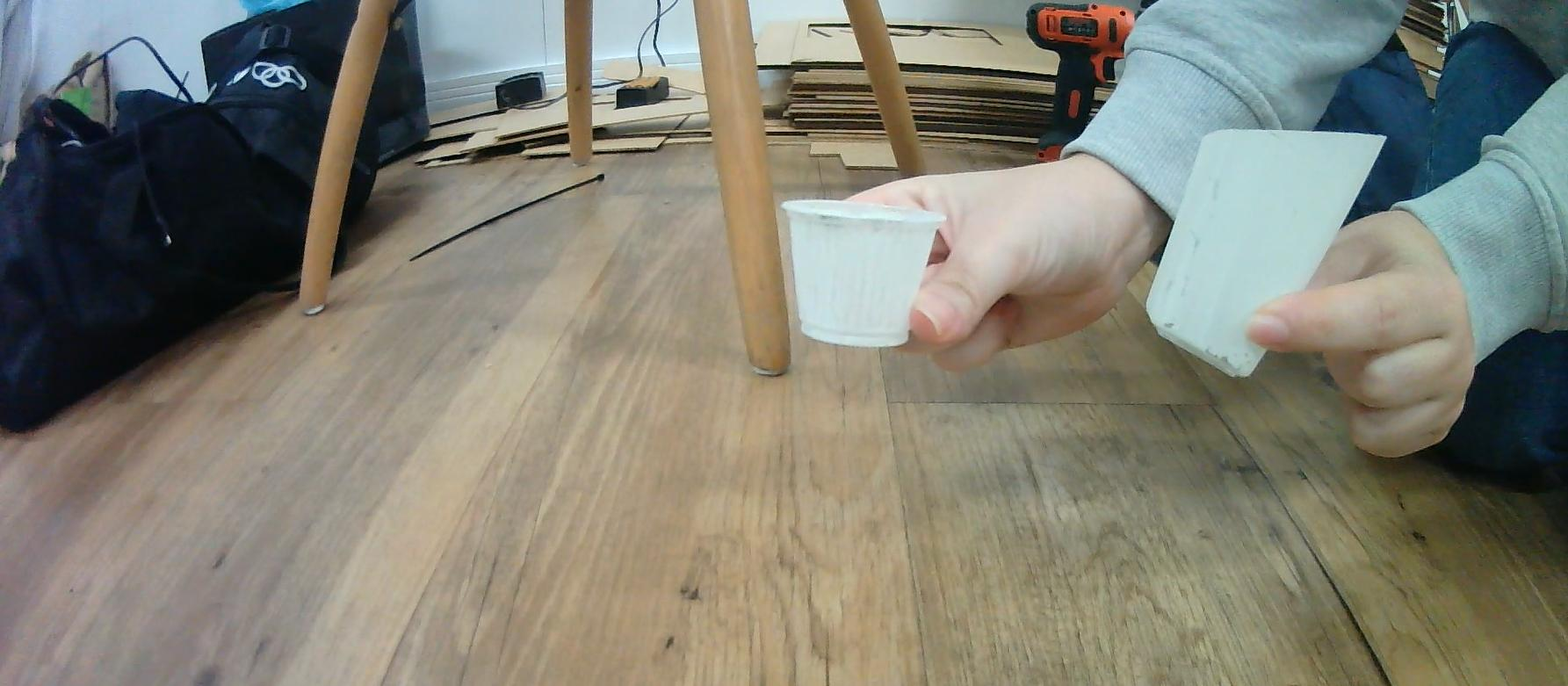erva_daninha: (1145, 128, 1386, 378)
planta: (780, 199, 946, 350)
